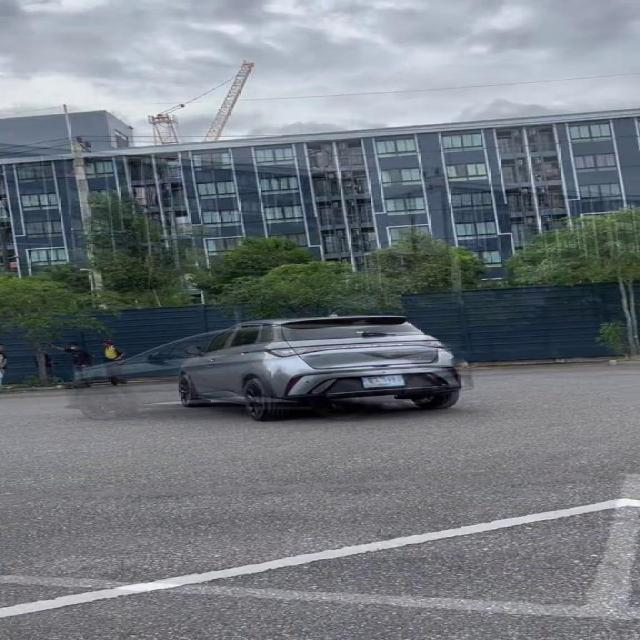Hatchback: (179, 316, 461, 421)
